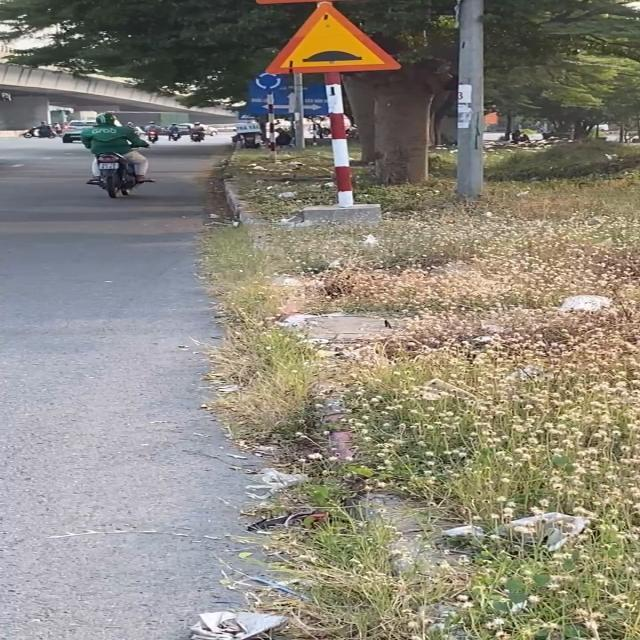221-duong-go-ghe: (259, 3, 403, 75)
303-noi-giao-nhau-chay-theo-vong-xuyen: (253, 70, 284, 92)
